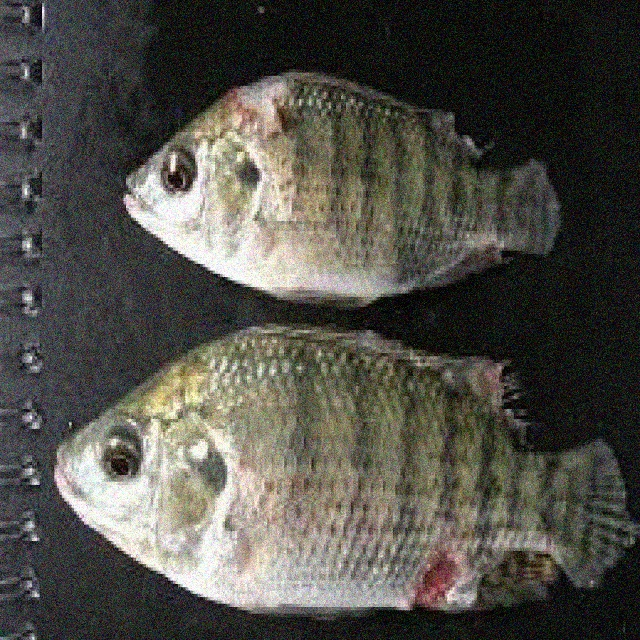EUS Disease: (58, 70, 635, 603), (173, 75, 409, 205), (356, 513, 518, 627)
